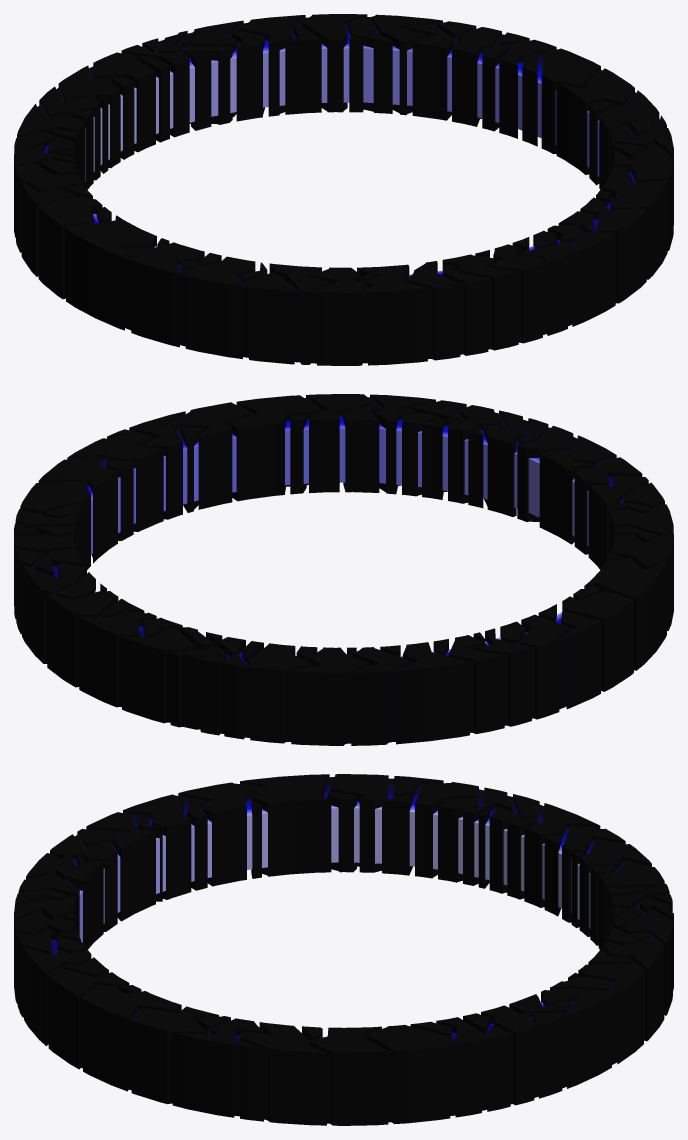
The model's file is splorgportalring1.obj.
3 renders of one model, top to bottom at view 1: azimuth 30°, elevation 25°; view 2: azimuth 150°, elevation 25°; view 3: azimuth 270°, elevation 25°, orthographic.
Parts seen in each view (by area): view 1: Circle.002, Cylinder.001_Cylinder.003; view 2: Circle.002, Cylinder.001_Cylinder.003; view 3: Circle.002, Cylinder.001_Cylinder.003.
Boxes of the visible parts, box(x1,y1,x2,y2) form: Circle.002: box(14, 14, 673, 365); Cylinder.001_Cylinder.003: box(16, 16, 671, 363); Circle.002: box(14, 394, 673, 745); Cylinder.001_Cylinder.003: box(17, 397, 671, 743); Circle.002: box(14, 774, 673, 1125); Cylinder.001_Cylinder.003: box(16, 777, 671, 1123).
Size of the model in its own units: 2.7 by 0.33 by 2.7.
2 materials, 1 textured.
